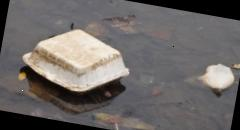general: (17, 19, 135, 104)
